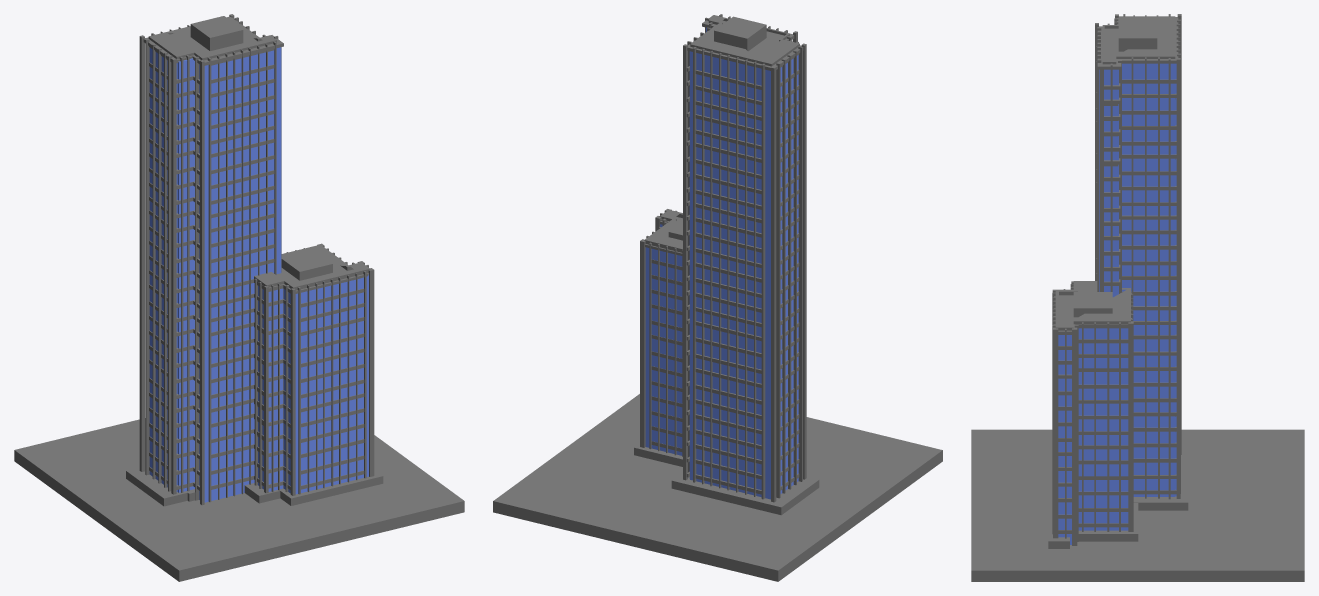
File: building.glb
3 renders of one model, left to right at view 1: azimuth 30°, elevation 25°; view 2: azimuth 150°, elevation 25°; view 3: azimuth 270°, elevation 25°, orthographic.
Parts seen in each view (by area): view 1: pPlane1, pasted__pasted__pasted__pasted__pasted__pasted__pCube3_4, pasted__pasted__pasted__pasted__pasted__pasted__pasted__past (×9), pasted__pasted__pasted__pasted__pasted__pasted__pasted__pCub (×3), group15_pasted__group14_pasted__pasted__group13_pasted__past, group34_pasted__group23_pasted__pasted__group22_pasted__past, group34_pasted__group13_pasted__pasted__group12_pasted__past, pasted__pasted__pCube2, pasted__pasted__pCube2_4, pasted__pasted__group15_pasted__group14_pasted__pasted__grou (×2), pasted__pCube2, pasted__pasted__pasted__pasted__pCube2_8 (+23 smaller); view 2: pPlane1, pasted__pasted__pasted__pasted__pasted__pasted__pasted__pCub (×4), pasted__pasted__pasted__pasted__pasted__pasted__pasted__past (×4), pasted__pasted__pCube2_4, pasted__pCube1_5, pasted__pasted__pCube2_5, pasted__pasted__pasted__pasted__pCube2_8, pasted__pasted__pasted__pCube2_2, pasted__pasted__pasted__pCube2_9, pasted__pasted__pCube2, pasted__pCube2_4, pCube4 (+12 smaller); view 3: pPlane1, pasted__pasted__pasted__pasted__pasted__pasted__pasted__pCub (×4), pasted__pasted__pasted__pasted__pasted__pasted__pasted__past (×7), pasted__pasted__pasted__group15_pasted__group14_pasted__past, pasted__polySurface15_3, pasted__pasted__pasted__pCube2_2, group106_pasted__group34_pasted__pasted__group4_pasted__past, pasted__pasted__pCube1_11, pasted__pasted__pasted__pasted__pasted__pCube2_7, pasted__pasted__pasted__pasted__pasted__pasted__pCube2_2, pasted__pasted__pasted__pasted__pasted__pCube2_10, pasted__pasted__pasted__pasted__pasted__pasted__pCube1 (+14 smaller).
Part boxes in pixels (x1,y1,x2,y2): pPlane1: [14, 418, 464, 581]; pasted__pasted__pasted__pasted__pasted__pasted__pCube3_4: [204, 47, 281, 502]; pasted__pasted__pasted__pasted__pasted__pasted__pasted__past (×9): [149, 44, 290, 493]; pasted__pasted__pasted__pasted__pasted__pasted__pasted__pCub (×3): [148, 16, 368, 494]; group15_pasted__group14_pasted__pasted__group13_pasted__past: [211, 64, 274, 489]; group34_pasted__group23_pasted__pasted__group22_pasted__past: [297, 271, 366, 494]; group34_pasted__group13_pasted__pasted__group12_pasted__past: [301, 288, 364, 489]; pasted__pasted__pCube2: [171, 58, 176, 494]; pasted__pasted__pCube2_4: [139, 35, 144, 471]; pasted__pasted__group15_pasted__group14_pasted__pasted__grou (×2): [176, 76, 199, 490]; pasted__pCube2: [200, 60, 204, 505]; pasted__pasted__pasted__pasted__pCube2_8: [145, 39, 149, 475]; pPlane1: [493, 394, 942, 581]; pasted__pasted__pasted__pasted__pasted__pasted__pasted__pCub (×4): [640, 15, 799, 499]; pasted__pasted__pasted__pasted__pasted__pasted__pasted__past (×4): [645, 54, 798, 493]; pasted__pasted__pCube2_4: [771, 66, 776, 502]; pasted__pCube1_5: [671, 472, 819, 515]; pasted__pasted__pCube2_5: [761, 63, 765, 499]; pasted__pasted__pasted__pasted__pCube2_8: [776, 62, 780, 498]; pasted__pasted__pasted__pCube2_2: [683, 44, 687, 480]; pasted__pasted__pasted__pCube2_9: [798, 46, 802, 481]; pasted__pasted__pCube2: [801, 43, 806, 479]; pasted__pCube2_4: [693, 47, 696, 482]; pCube4: [714, 16, 766, 51]; pPlane1: [971, 429, 1304, 581]; pasted__pasted__pasted__pasted__pasted__pasted__pasted__pCub (×4): [1102, 16, 1176, 531]; pasted__pasted__pasted__pasted__pasted__pasted__pasted__past (×7): [1058, 57, 1159, 544]; pasted__pasted__pasted__group15_pasted__group14_pasted__past: [1122, 79, 1176, 494]; pasted__polySurface15_3: [1075, 324, 1128, 527]; pasted__pasted__pasted__pCube2_2: [1176, 58, 1180, 498]; group106_pasted__group34_pasted__pasted__group4_pasted__past: [1055, 281, 1130, 330]; pasted__pasted__pCube1_11: [1048, 496, 1138, 548]; pasted__pasted__pasted__pasted__pasted__pCube2_7: [1168, 58, 1170, 499]; pasted__pasted__pasted__pasted__pasted__pasted__pCube2_2: [1072, 327, 1077, 545]; pasted__pasted__pasted__pasted__pasted__pCube2_10: [1053, 327, 1058, 538]; pasted__pasted__pasted__pasted__pasted__pasted__pCube1: [1097, 17, 1178, 69].
Size of the model in its own units: 42.87 by 68.13 by 42.87.
